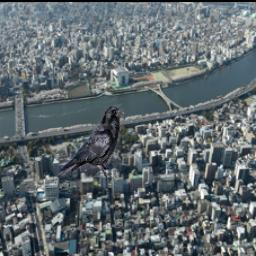Crow: (56, 105, 124, 178)
